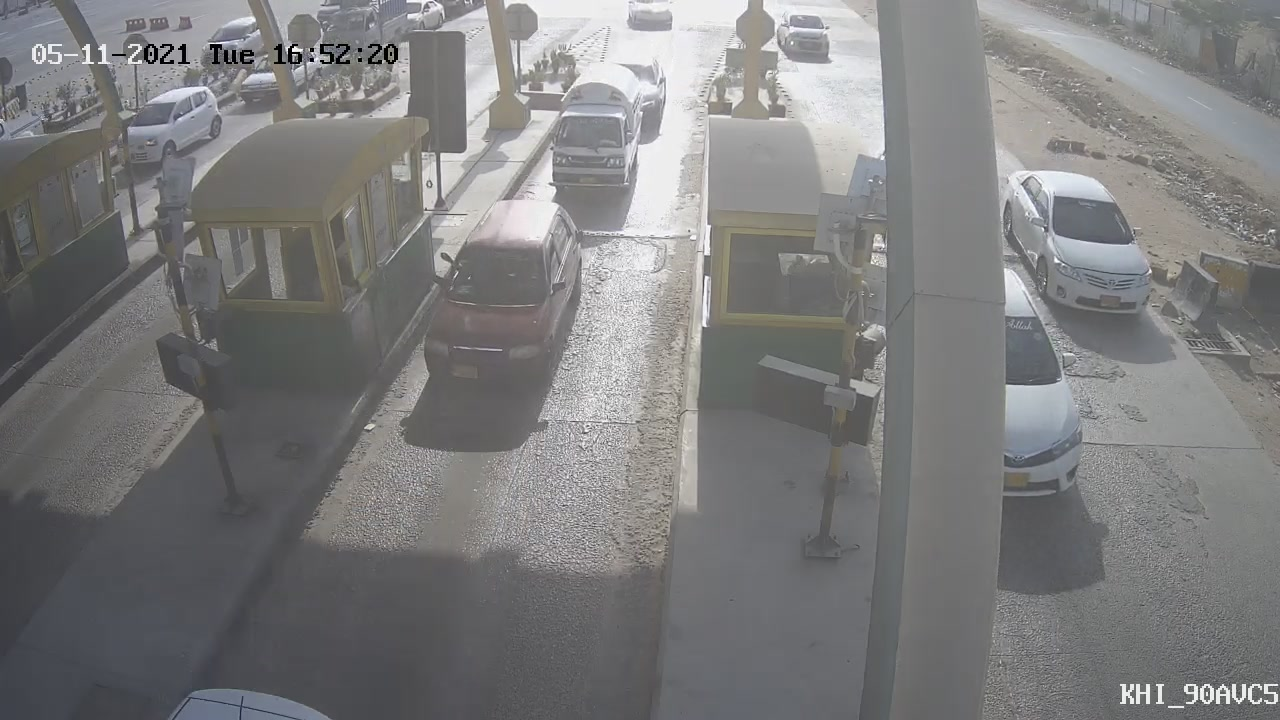F1: (411, 188, 586, 390), (530, 44, 660, 216)
